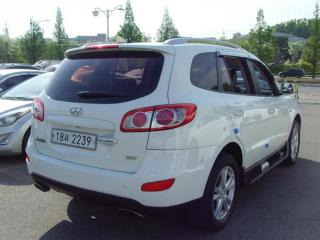1: (55, 130, 59, 141)
2: (71, 132, 77, 145), (76, 134, 82, 145)
3: (81, 134, 87, 147)
8: (60, 131, 64, 143)
9: (86, 135, 92, 147)
plate: (48, 125, 104, 158)
서: (64, 132, 70, 144)
